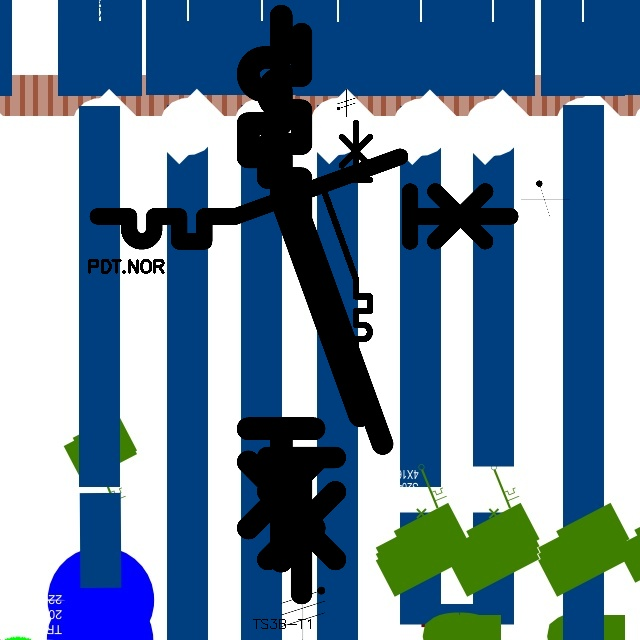interruptor_termomagnetico: (253, 19, 397, 607), (234, 2, 374, 575), (87, 146, 521, 252), (316, 116, 376, 362)
